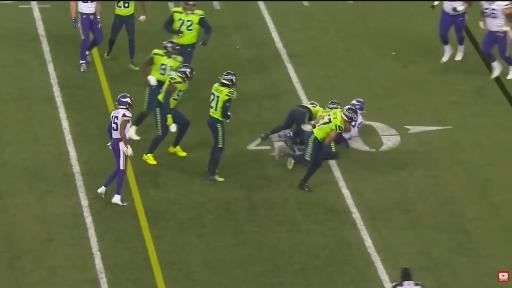Helmet: (162, 39, 179, 57), (177, 64, 194, 81), (342, 106, 358, 122), (116, 94, 132, 110), (220, 72, 236, 88), (351, 99, 364, 111), (183, 2, 195, 13), (327, 101, 341, 109), (308, 102, 319, 107)
Jersey: (171, 8, 204, 45), (151, 50, 182, 81), (158, 76, 188, 108), (313, 110, 343, 141), (210, 84, 235, 121), (481, 2, 510, 31), (111, 109, 131, 138), (343, 112, 364, 139), (299, 104, 323, 121), (115, 2, 135, 15), (443, 2, 464, 14), (78, 2, 96, 13), (318, 109, 331, 116)
Player: (287, 106, 357, 191), (129, 40, 182, 139), (143, 65, 193, 164), (98, 94, 132, 205), (207, 72, 236, 181), (164, 2, 211, 64), (261, 102, 323, 143), (479, 2, 511, 78), (105, 2, 138, 70), (70, 2, 102, 71), (439, 2, 471, 63), (336, 99, 364, 144), (319, 101, 341, 116)
